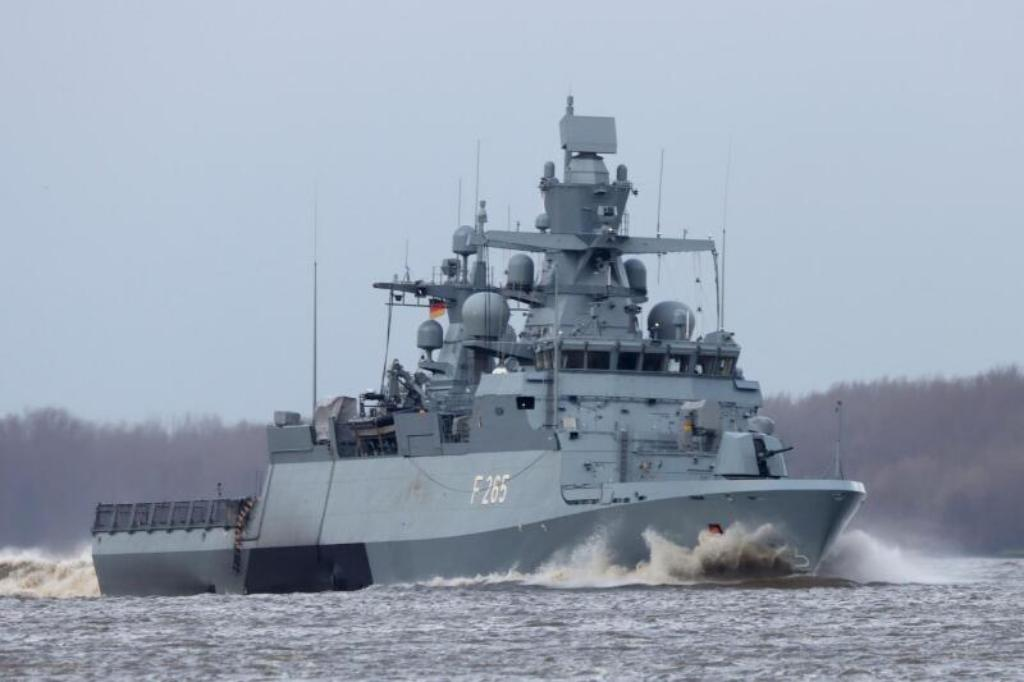Warship: (88, 89, 868, 599)
